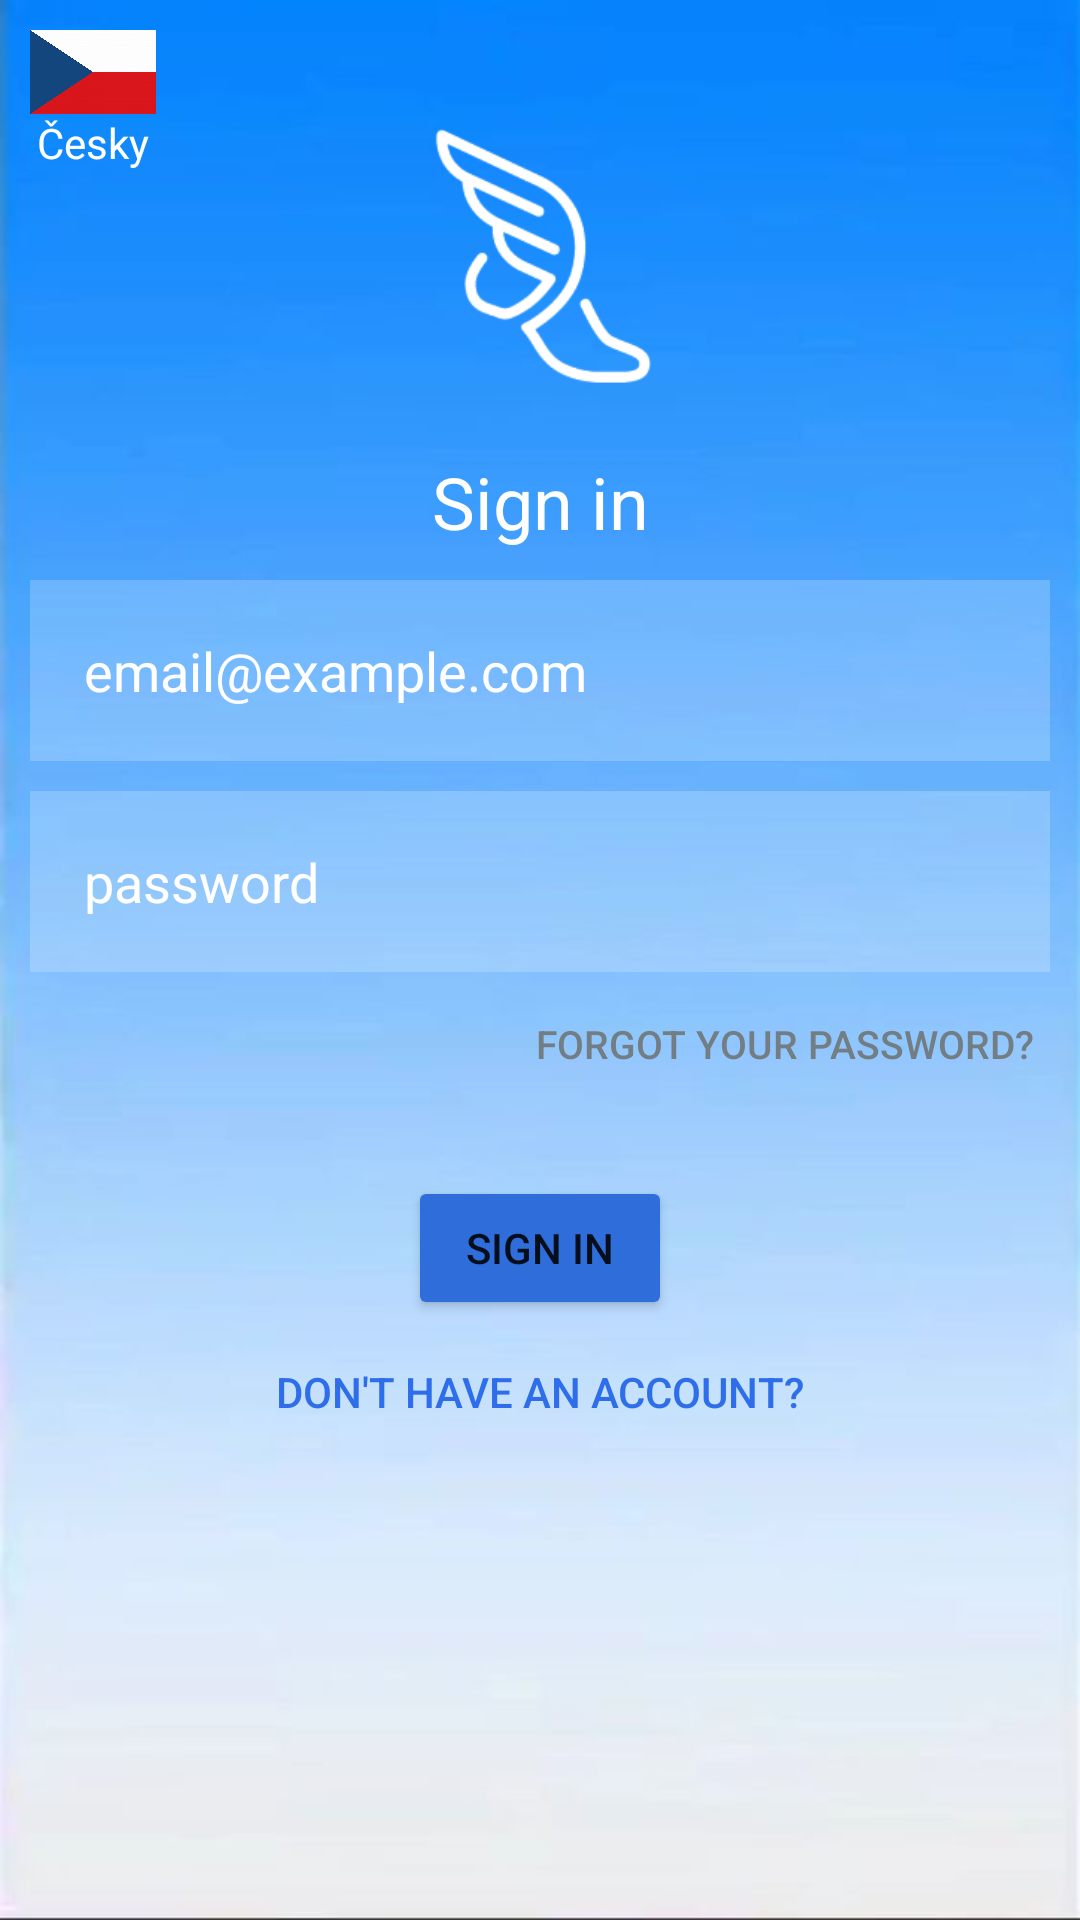

Screen size 1080 × 1920. Icon name, then its center in pixels as (x,y):
flag cz: (93,72)
